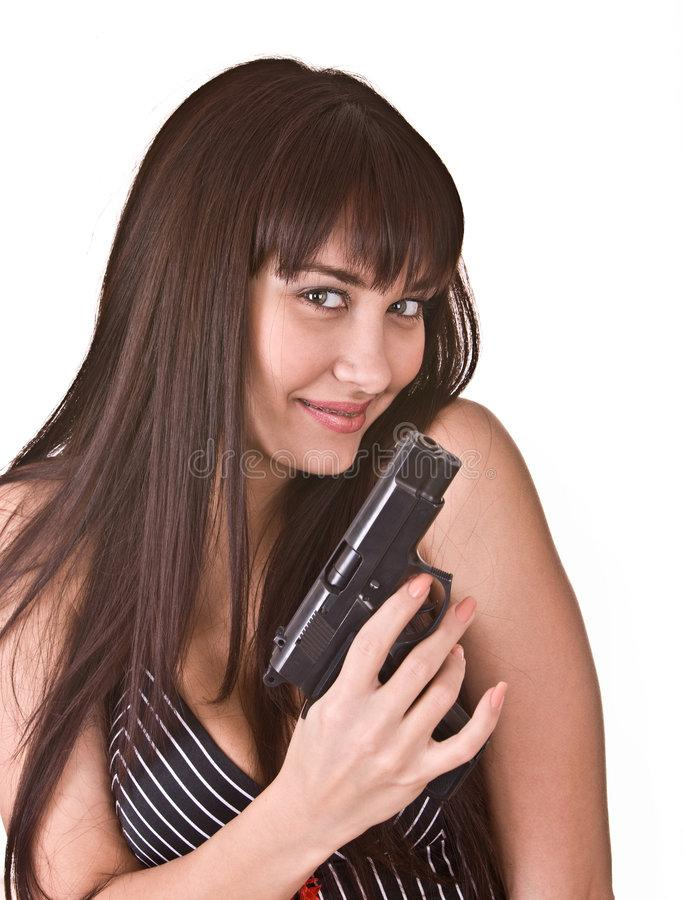criminal: (0, 52, 618, 900)
weapon: (257, 424, 479, 807)
